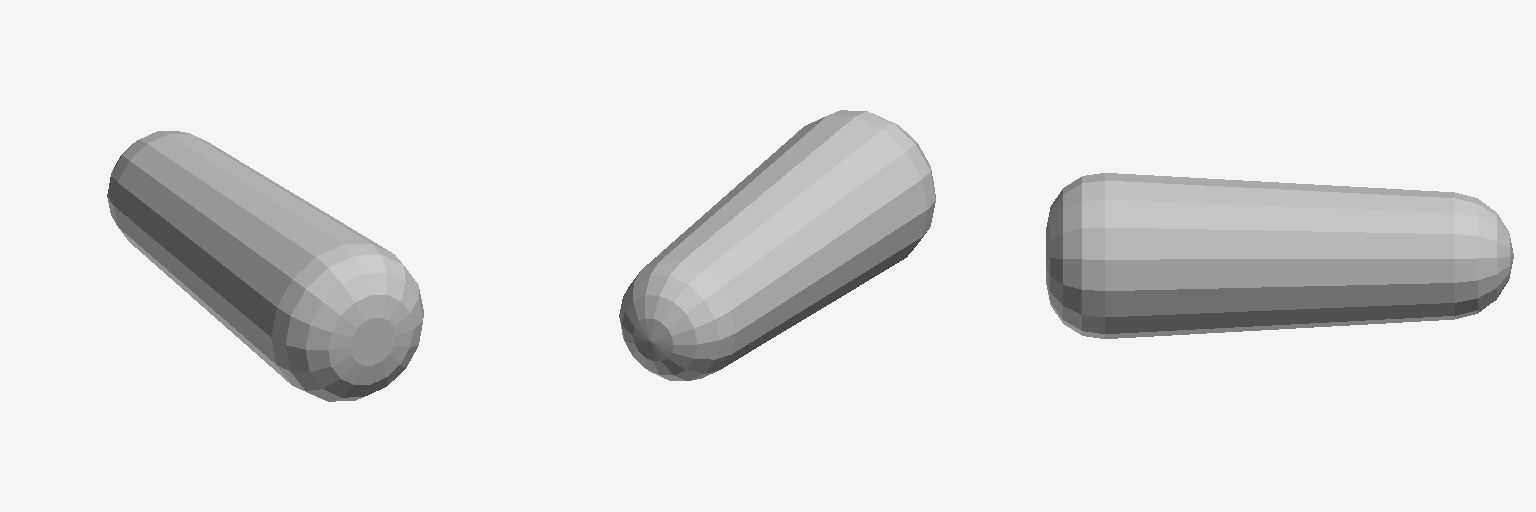
The model's file is hand.obj.
3 views of the same model, side by side, from view 1: azimuth 30°, elevation 25°; view 2: azimuth 150°, elevation 25°; view 3: azimuth 270°, elevation 25° (orthographic).
Parts seen in each view (by area): view 1: Cylinder; view 2: Cylinder; view 3: Cylinder.
Boxes of the visible parts, box(x1,y1,x2,y2) form: Cylinder: box(107, 131, 423, 401); Cylinder: box(619, 110, 935, 380); Cylinder: box(1046, 173, 1513, 338).
Size of the model in its own units: 1.92 by 1.92 by 5.4.